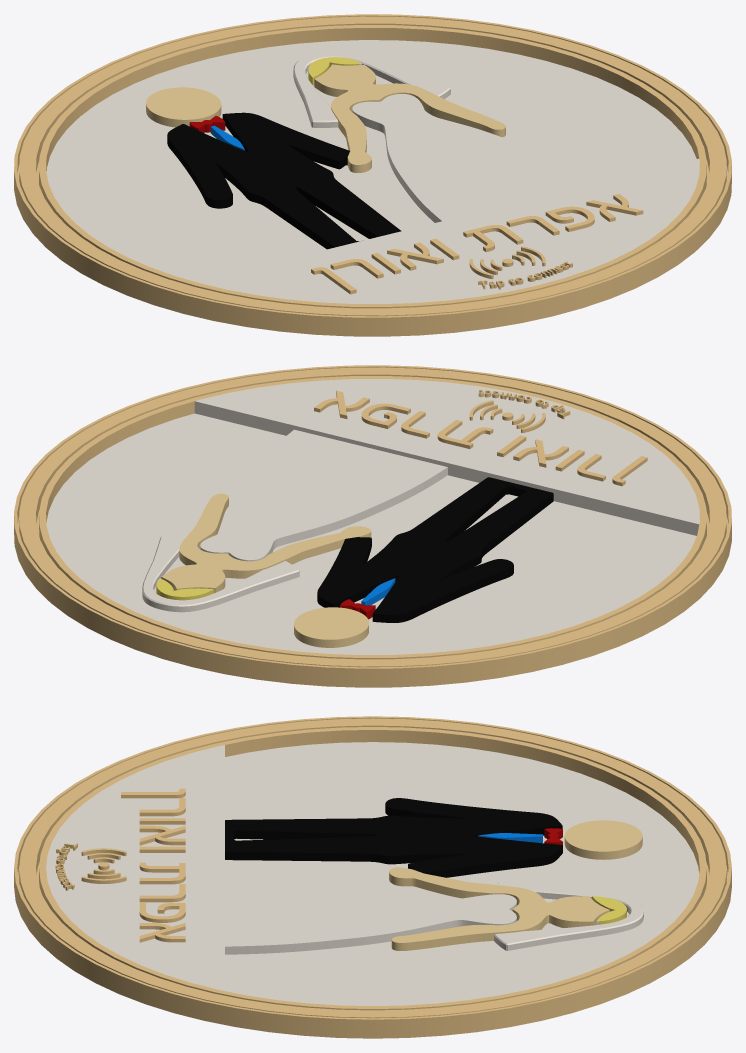
File: tal nfc project (2).glb
3 views of the same model, one above another, from view 1: azimuth 30°, elevation 25°; view 2: azimuth 150°, elevation 25°; view 3: azimuth 270°, elevation 25° (orthographic).
Visible parts, largest first — view 1: Circle, Circle.003, Plane.001, Text, Plane.002, Circle.001, Plane, Text.001; view 2: Circle, Circle.003, Plane.001, Text, Plane.002, Circle.001, Plane, Text.001; view 3: Circle, Circle.003, Plane.001, Text, Plane.002, Circle.001, Plane.
Part boxes in pixels (bbox=[...]): Circle: bbox=[14, 14, 731, 336]; Circle.003: bbox=[46, 40, 696, 281]; Plane.001: bbox=[167, 57, 594, 249]; Text: bbox=[311, 194, 643, 294]; Plane.002: bbox=[293, 51, 450, 127]; Circle.001: bbox=[146, 87, 221, 127]; Plane: bbox=[469, 246, 545, 279]; Text.001: bbox=[478, 261, 572, 289]; Circle: bbox=[14, 365, 731, 687]; Circle.003: bbox=[46, 413, 696, 654]; Plane.001: bbox=[156, 429, 553, 622]; Text: bbox=[314, 390, 647, 486]; Plane.002: bbox=[142, 536, 299, 612]; Circle.001: bbox=[294, 607, 368, 647]; Plane: bbox=[469, 400, 545, 432]; Text.001: bbox=[478, 390, 570, 419]; Circle: bbox=[14, 716, 731, 1038]; Circle.003: bbox=[225, 742, 699, 1005]; Plane.001: bbox=[225, 798, 626, 954]; Text: bbox=[121, 788, 185, 942]; Plane.002: bbox=[494, 877, 643, 950]; Circle.001: bbox=[564, 820, 642, 859]; Plane: bbox=[81, 848, 126, 883].
Bounding box in the file's own units: 2.4 × 0.083 × 2.4.
